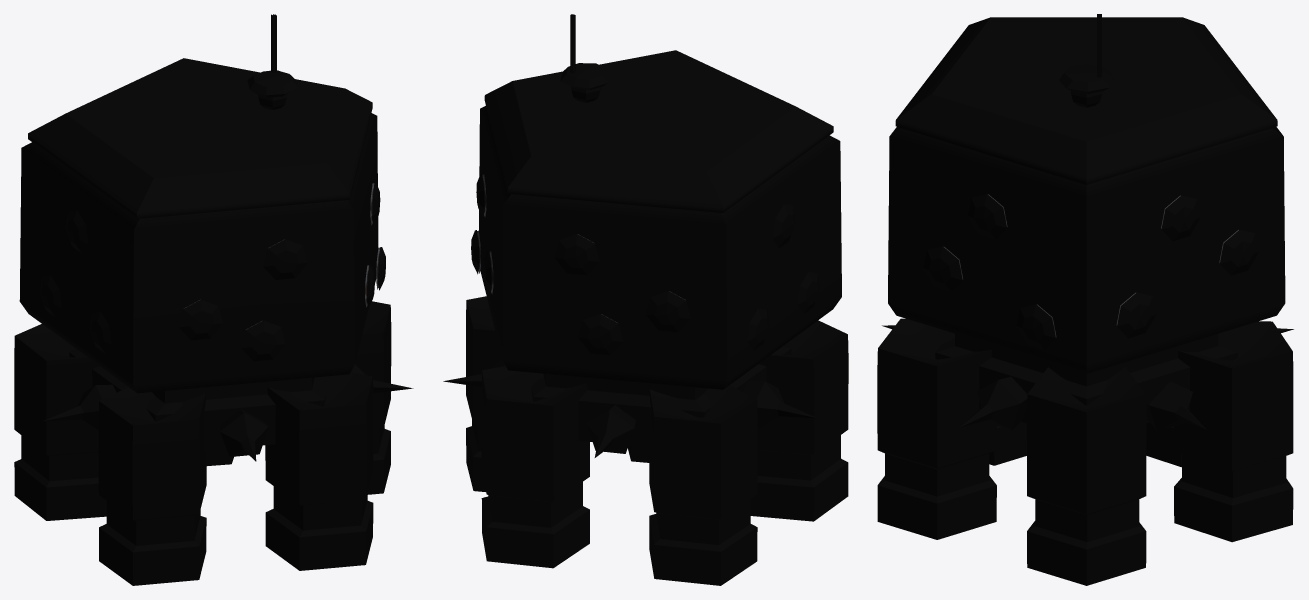
The model's file is AA_MissileLauncher.fbx.
3 views of the same model, side by side, from view 1: azimuth 30°, elevation 25°; view 2: azimuth 150°, elevation 25°; view 3: azimuth 270°, elevation 25° (orthographic). The views are drawn at different scales.
Visible parts, largest first — view 1: polySurface1, SA_MissileStation; view 2: polySurface1, SA_MissileStation; view 3: polySurface1, SA_MissileStation.
Part boxes in pixels (bbox=[...]): polySurface1: bbox=[14, 14, 413, 585]; SA_MissileStation: bbox=[175, 14, 379, 329]; polySurface1: bbox=[443, 14, 848, 585]; SA_MissileStation: bbox=[477, 14, 685, 322]; polySurface1: bbox=[877, 14, 1293, 585]; SA_MissileStation: bbox=[943, 15, 1238, 337].
Size of the model in its own units: 8 by 10.38 by 7.65.
